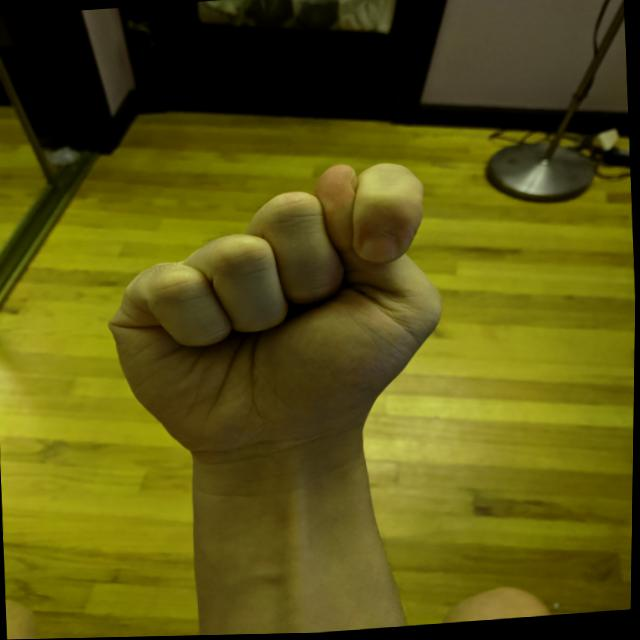T: (94, 151, 465, 476)
